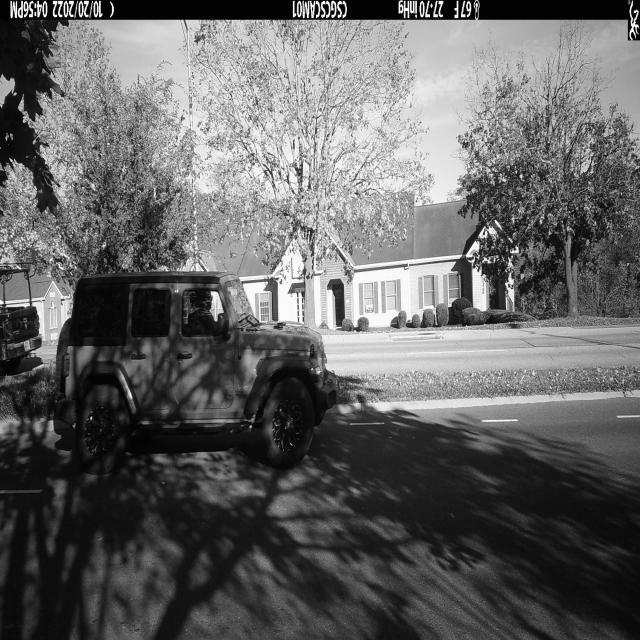SUV: (52, 272, 337, 476)
